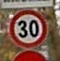limite 30: (7, 8, 49, 48)
